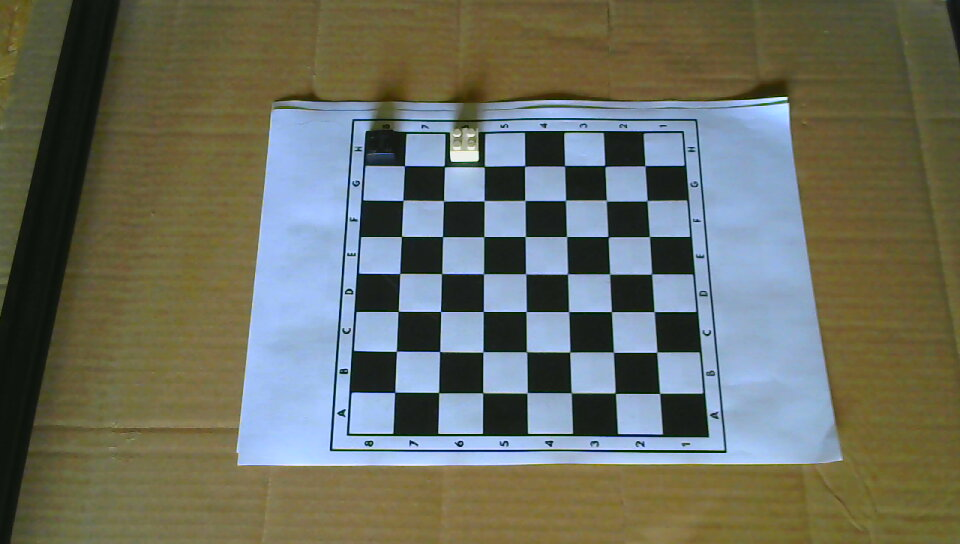bp: (364, 129, 399, 165)
wp: (447, 126, 482, 165)
